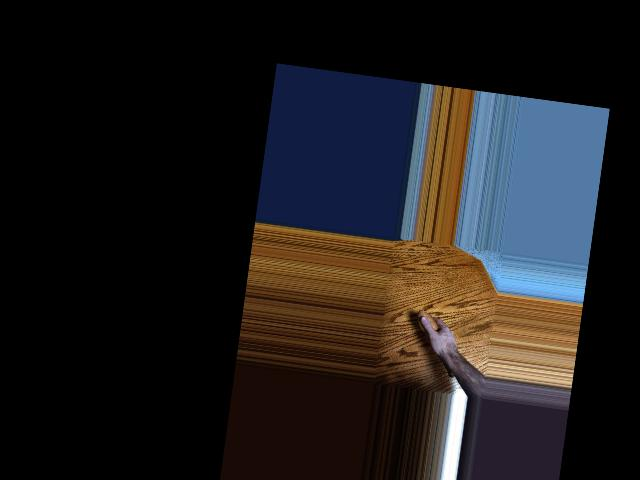sweet_potato: (408, 308, 467, 381)
